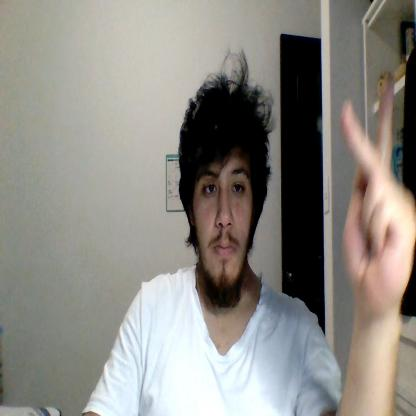P: (342, 79, 415, 310)
